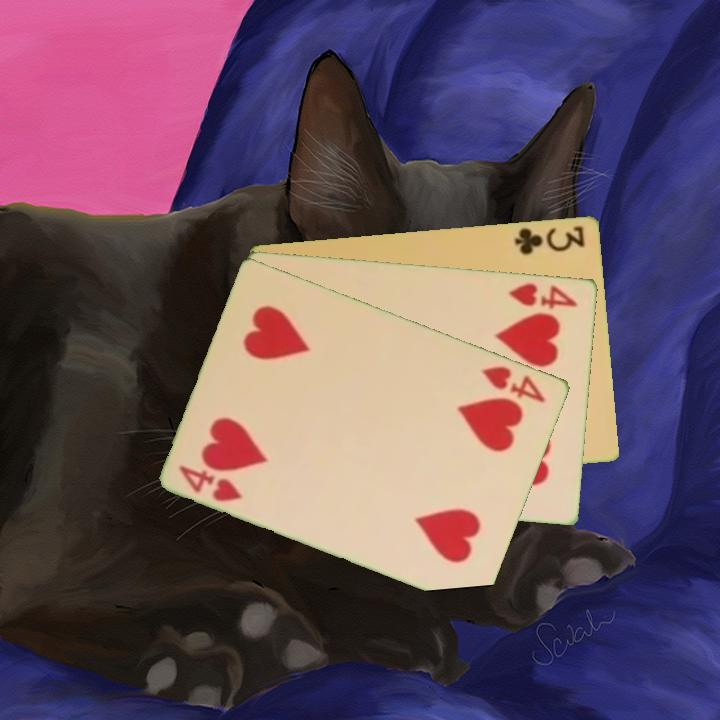3c: (511, 221, 588, 257)
4h: (478, 362, 549, 406), (176, 461, 246, 505), (505, 279, 581, 312)
